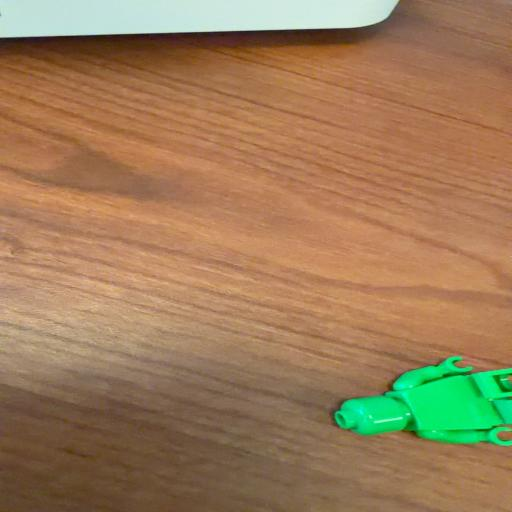UnoQ-minifig-detector: (333, 356, 512, 446)
